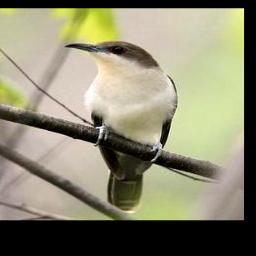Cuckoo: (63, 40, 179, 214)
